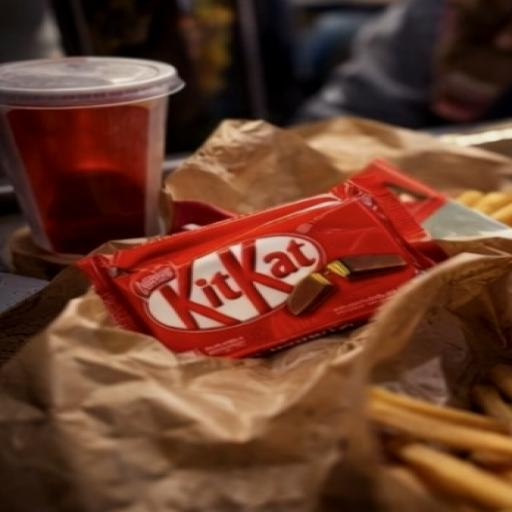kitkat: (44, 138, 498, 370)
